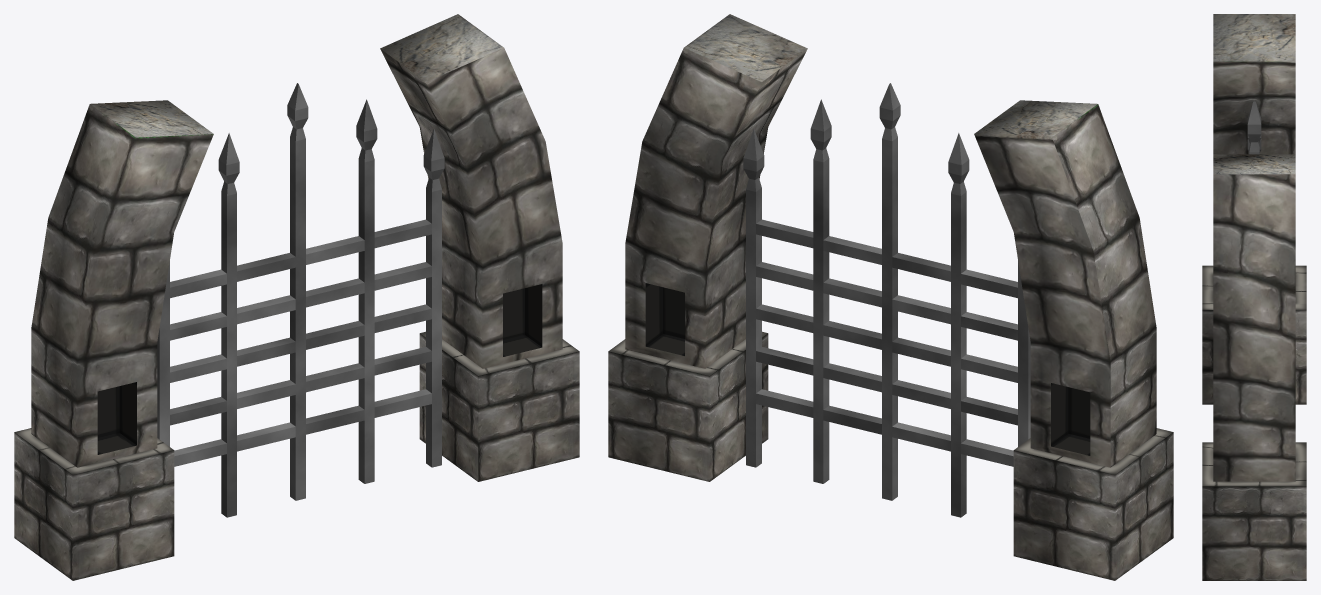
The model's file is PortCullis Pillars.FBX.
3 renders of one model, left to right at view 1: azimuth 30°, elevation 25°; view 2: azimuth 150°, elevation 25°; view 3: azimuth 270°, elevation 25°, orthographic. The views are drawn at different scales.
Parts seen in each view (by area): view 1: Pillar2, Pillar1, Gate; view 2: Pillar2, Pillar1, Gate; view 3: Pillar1, Pillar2, Gate.
Part boxes in pixels (bbox=[...]): Pillar2: bbox=[14, 100, 213, 580]; Pillar1: bbox=[380, 14, 579, 481]; Gate: bbox=[157, 83, 444, 517]; Pillar2: bbox=[974, 100, 1173, 580]; Pillar1: bbox=[608, 14, 807, 481]; Gate: bbox=[743, 83, 1030, 517]; Pillar1: bbox=[1202, 154, 1306, 580]; Pillar2: bbox=[1202, 14, 1306, 404]; Gate: bbox=[1247, 101, 1261, 154].
Size of the model in its own units: 250 by 199 by 50.
Materials: 1 (1 with a texture image).
